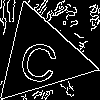C: (16, 31, 63, 85)
